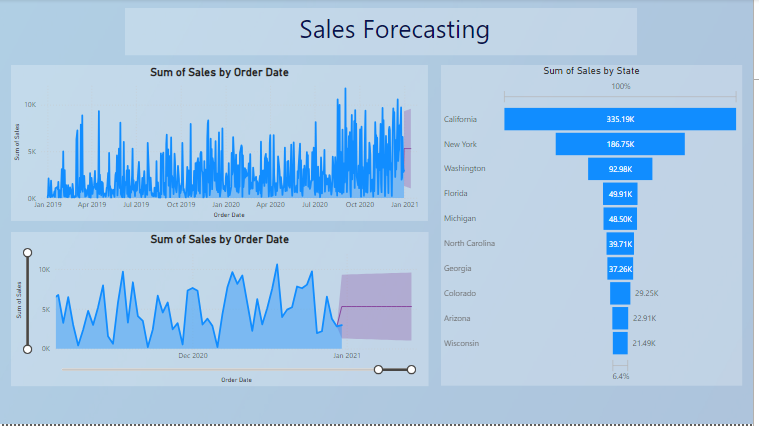

This screenshot's page, from the dashboard's own definition file:
{"tool":"powerbi","page":{"name":"Page 2","canvas":[1280,720],"ordinal":1},"visuals":[{"type":"lineChart","fields":{"Category":["SuperStore_Sales_Dataset(1).Order Date"],"Y":["Sum(SuperStore_Sales_Dataset(1).Sales)"]},"box":[23.7,111.7,706,264.1],"z":0},{"type":"lineChart","fields":{"Category":["SuperStore_Sales_Dataset(1).Order Date"],"Y":["Sum(SuperStore_Sales_Dataset(1).Sales)"]},"box":[23,394.6,707,260.6],"z":1000},{"type":"funnel","fields":{"Y":["Sum(SuperStore_Sales_Dataset(1).Sales)"],"Category":["SuperStore_Sales_Dataset(1).State"]},"box":[751.7,111.7,509.6,543.5],"z":2000},{"type":"textbox","box":[216.7,15.2,866.9,79.6],"z":2001}]}

Visuals, with their boxes in screenshot pixels (x1, y1, x2, y2), scaled from the page's 1280x720 canvas onto the 759x426 screenshot:
lineChart - SuperStore_Sales_Dataset(1).Order Date x Sum(SuperStore_Sales_Dataset(1).Sales): <bbox>14, 66, 433, 222</bbox>
lineChart - SuperStore_Sales_Dataset(1).Order Date x Sum(SuperStore_Sales_Dataset(1).Sales): <bbox>14, 233, 433, 388</bbox>
funnel - Sum(SuperStore_Sales_Dataset(1).Sales) x SuperStore_Sales_Dataset(1).State: <bbox>446, 66, 748, 388</bbox>
textbox: <bbox>128, 9, 643, 56</bbox>
